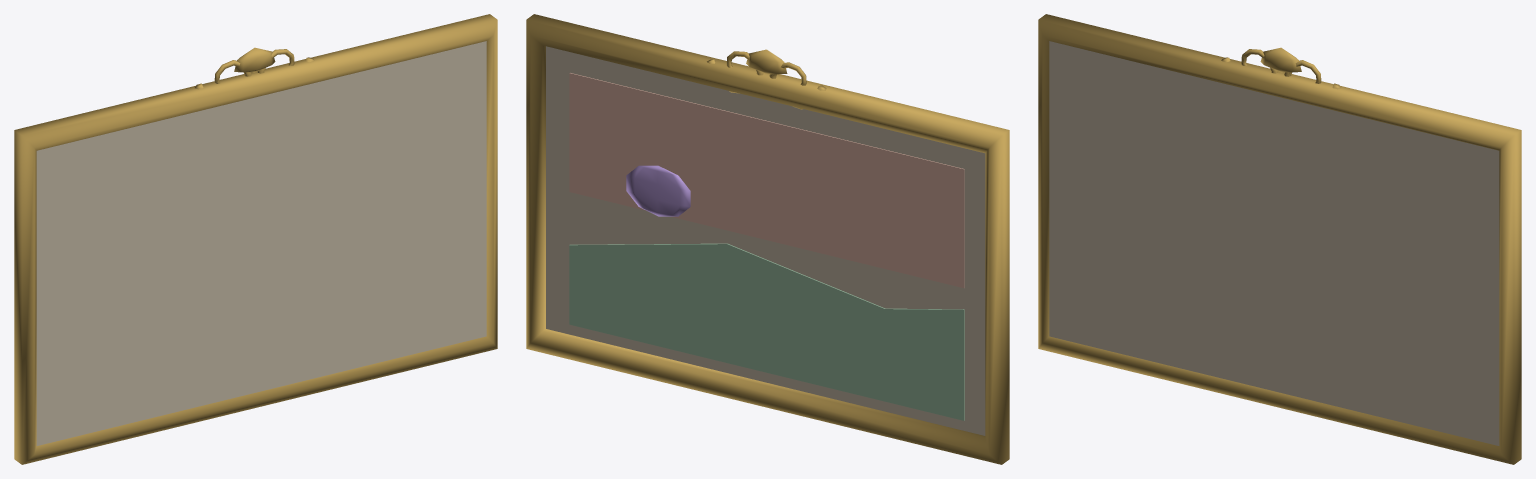
The model's file is painting_medium.glb.
The picture shows the model from 3 angles, left to right: view 1: azimuth 30°, elevation 25°; view 2: azimuth 150°, elevation 25°; view 3: azimuth 330°, elevation 25°; orthographic projection.
Visible parts, largest first — view 1: painting_medium; view 2: painting_medium; view 3: painting_medium.
Part boxes in pixels (left/top/right/bottom): painting_medium: left=14, top=14, right=497, bottom=464; painting_medium: left=526, top=14, right=1009, bottom=464; painting_medium: left=1038, top=14, right=1521, bottom=464.
Size of what is drawn, in the model's own units: 1.4 by 1 by 0.08.
